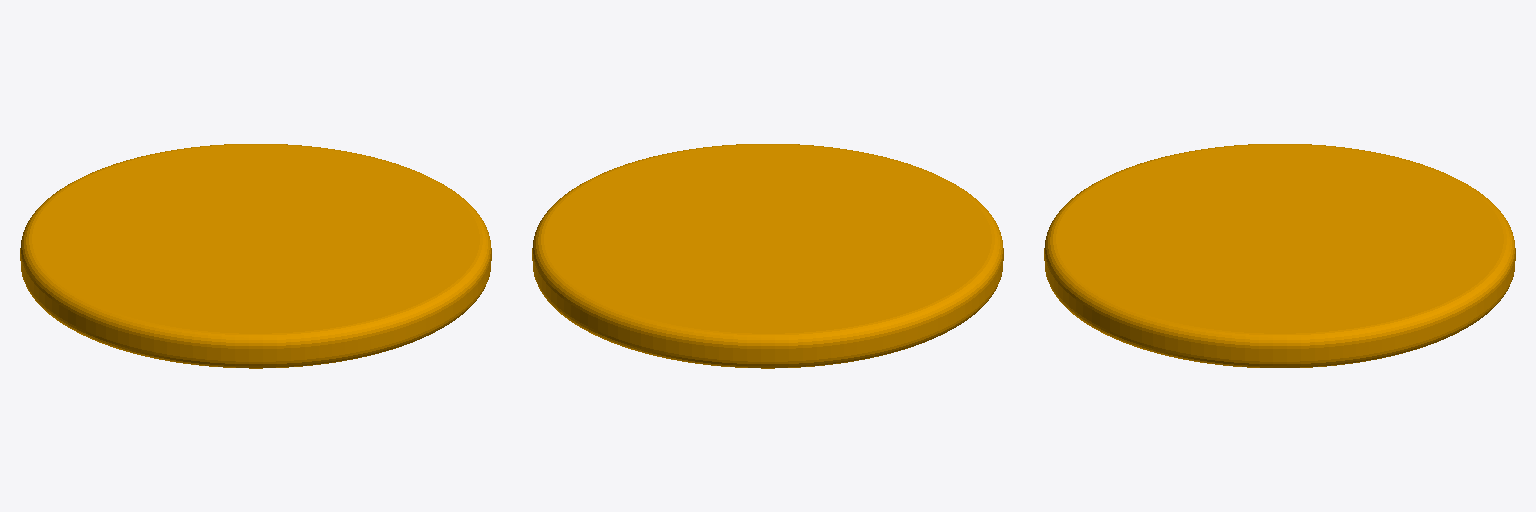
URDF robot description (block):
<?xml version="1.0"?>
<robot name="block">

<link name="burger_link">

  <collision>
    <origin xyz="0 0 0" rpy="0 0 0"/>
    <geometry>
      <!-- <mesh filename="package://ur_description/meshes/burger_v1.stl" scale="0.003 0.003 0.003"/> -->
      <box size="0.075 0.075 0.015" />
    </geometry>
  </collision>

  <visual>
    <origin xyz="0 0 0" rpy="0 0 0"/>
    <geometry>
      <mesh filename="package://ur_description/meshes/burger_v1.stl" scale="0.003 0.003 0.003"/>
    </geometry>
  </visual>

  <inertial>
   <origin xyz="0 0 0" rpy="0 0 0"/>
   <mass value="0.0225" />
   <inertia
      ixx="0.0" ixy="0.0"  ixz="0.0"
      iyy="0.0" iyz="0.0"  izz="0.0" />
  </inertial>
  <static>true</static>
</link>

<gazebo reference="burger_link">
  <static>1</static>
  <visual>
    <material>
      <ambient>0.55 0.27 0.07 1.0</ambient>
      <diffuse>0.55 0.27 0.07 1.0</diffuse>
      <specular>0 0 0 1.0</specular>
      <emissive>0 0 0 1.0</emissive>
    </material>
  </visual>
  <mu1>100</mu1>
  <mu2>100</mu2>
  <kp>2147483647</kp>
  <kd>1</kd>
  <maxVel>0</maxVel>
  <minDepth>0.001</minDepth>
</gazebo>

</robot>

--- What the picture shows (computed from the rendered views, not written in the file) ---
Views: 3 orthographic renders of the robot side by side, from view 1: azimuth 30°, elevation 25°; view 2: azimuth 150°, elevation 25°; view 3: azimuth 270°, elevation 25°.
Model block with 1 links and 0 joints (none), rooted at burger_link, posed every joint at zero.
Visible links, largest first — view 1: burger_link; view 2: burger_link; view 3: burger_link.
Link boxes in pixels (left/top/right/bottom): burger_link: left=20, top=144, right=491, bottom=368; burger_link: left=532, top=144, right=1003, bottom=368; burger_link: left=1044, top=144, right=1515, bottom=367.
Size in the robot's own frame: 0.1447 by 0.1448 by 0.0114 metres.
1 mesh visuals loaded from 1 distinct referenced files (1 binary STL).
